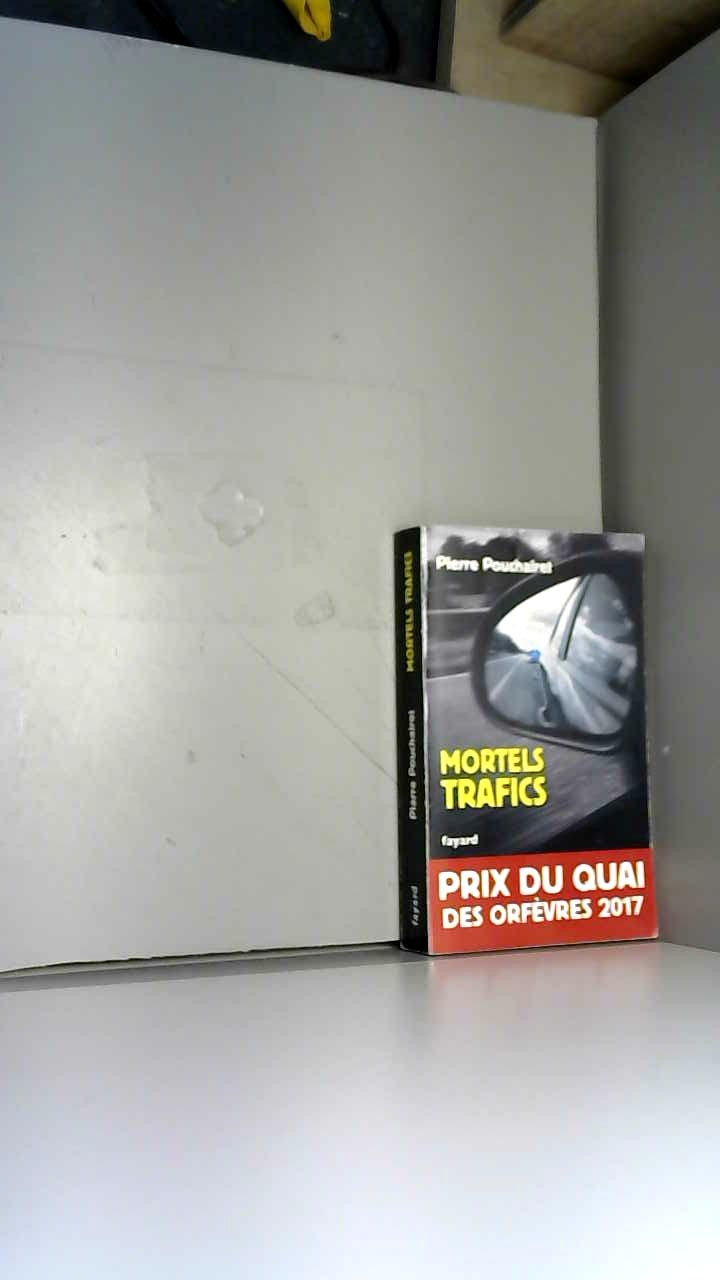book: (365, 490, 694, 993)
